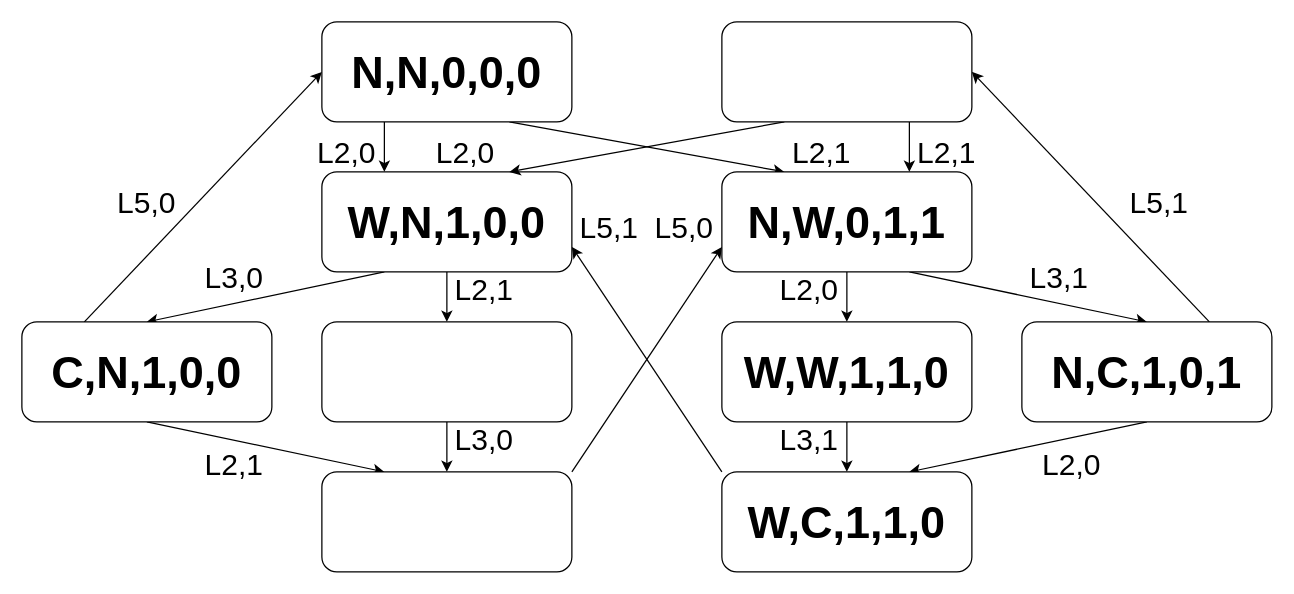
Some shapes in this 1294 by 594 pixel diagram are drawn without their labels. The shapes that lost their labels are listed below. From the top down, each one's centre as x and y in pixels, then its label:
(x=846, y=71): N,N,0 ,0,1
(x=446, y=371): W,W,1,1,1
(x=446, y=521): C,W,1,1,1
